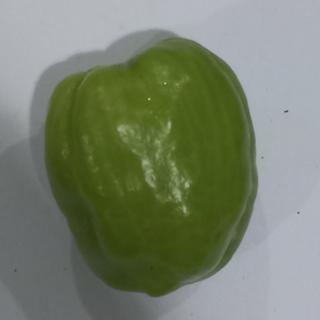Grade-A: (34, 27, 267, 298)
